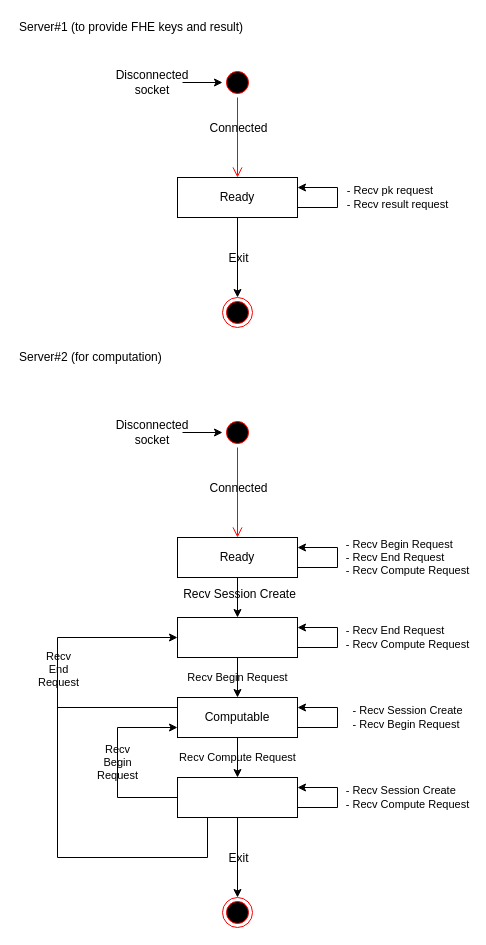
Image size: 486x945. Some labels were removed from this diagram. Each missing label, with the centre of its shape:
Computing: the point at 237,797
SessionCreated: the point at 237,637
